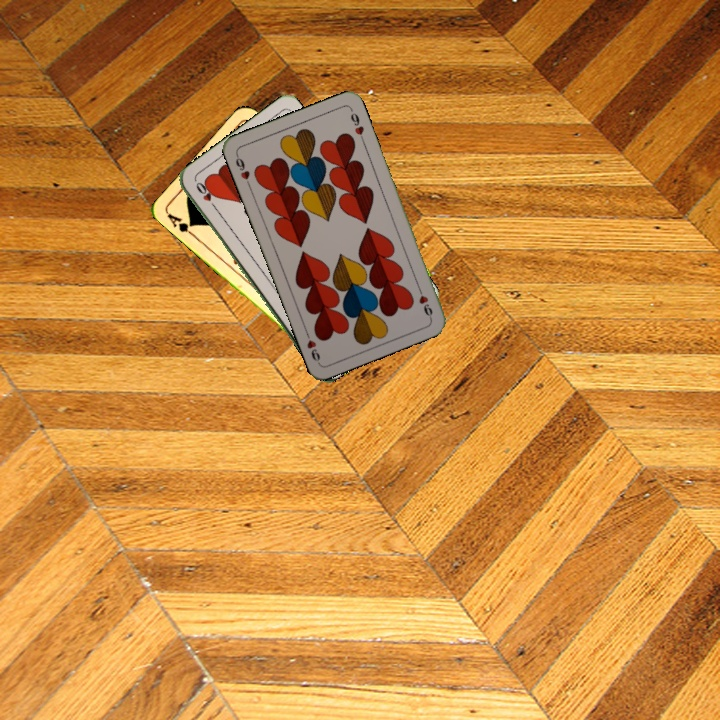GA: (163, 209, 198, 239)
H9: (231, 150, 253, 189), (413, 282, 435, 321)
HO: (192, 178, 220, 213)
